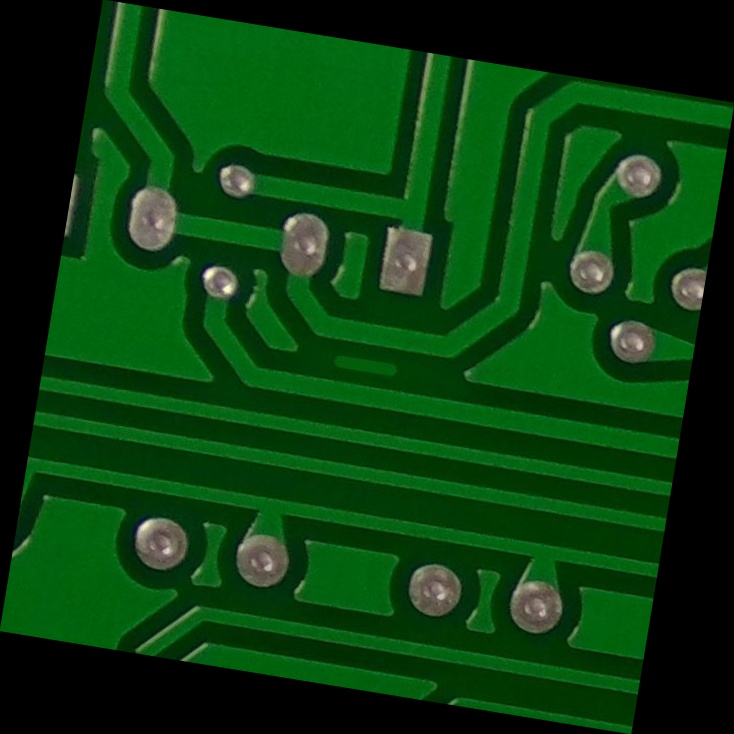spurious_copper: (321, 336, 413, 399)
